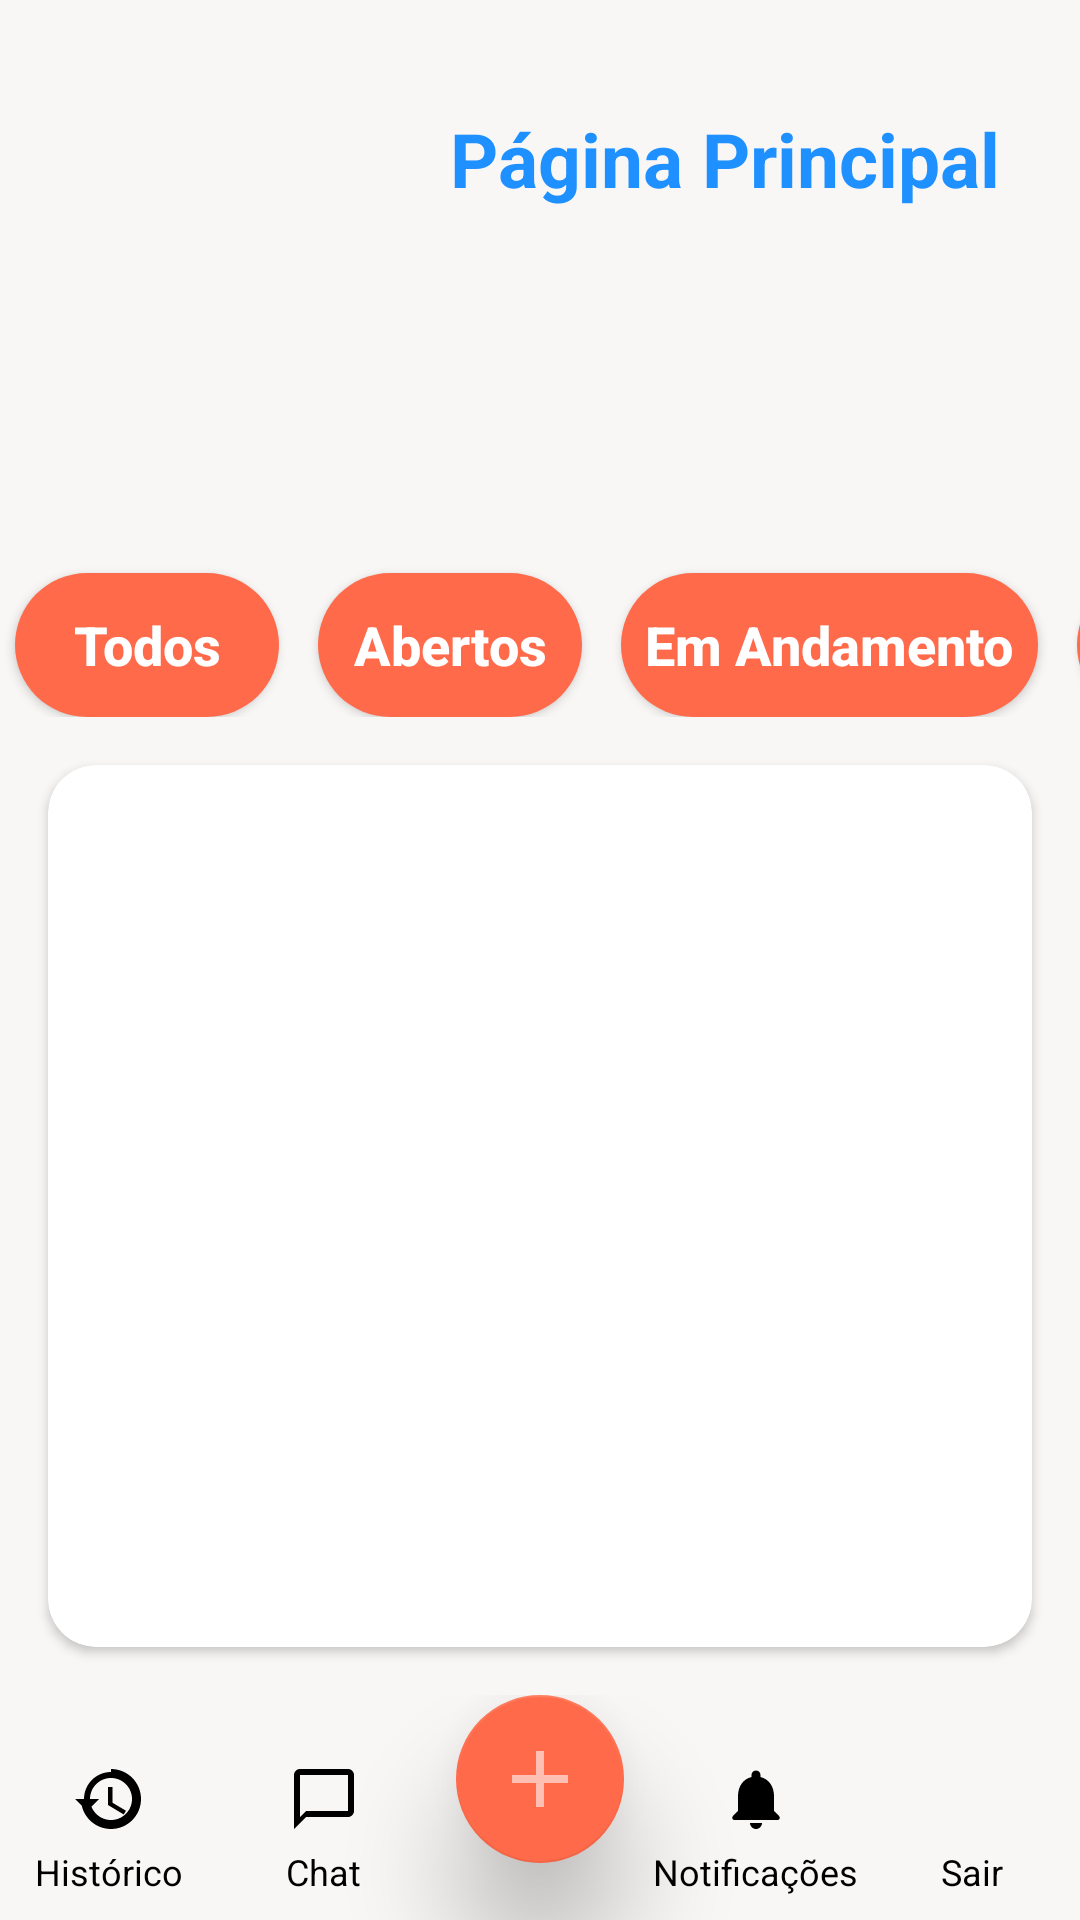

Point at icon controls on the screen. Image size 1080 × 1920, points as (x,y).
add: (540,1779)
